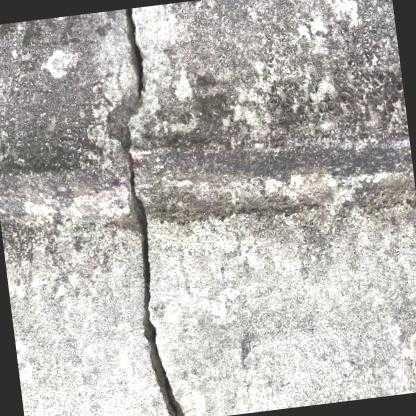crack: (106, 8, 186, 416)
